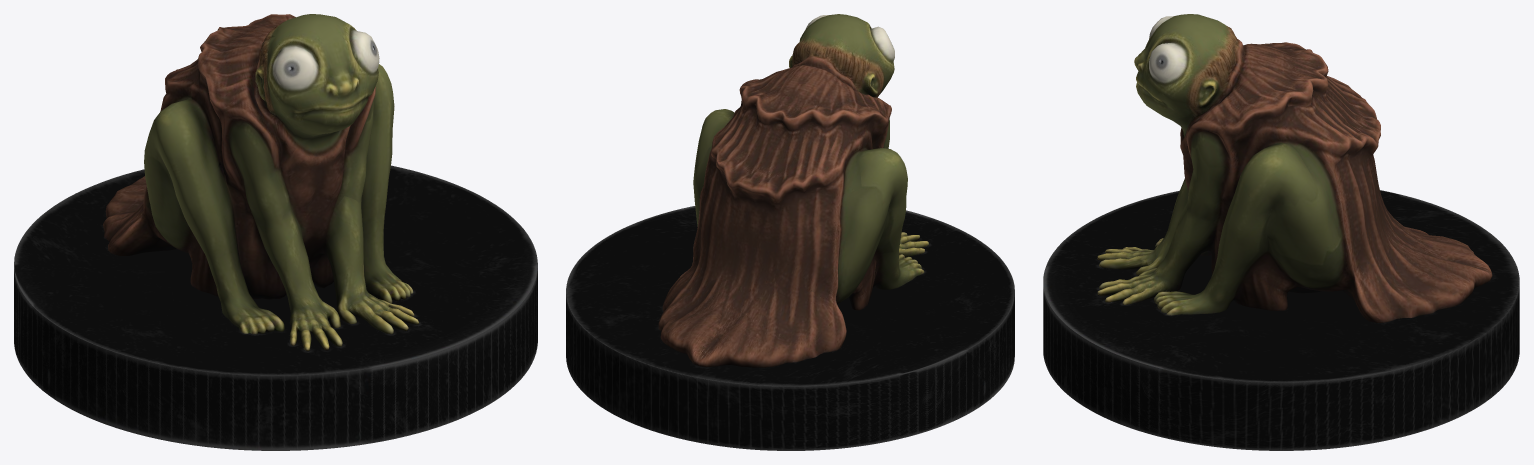
Rendered from MZ4250 - Lornling.glb.
3 views of the same model, side by side, from view 1: azimuth 30°, elevation 25°; view 2: azimuth 150°, elevation 25°; view 3: azimuth 270°, elevation 25° (orthographic). The views are drawn at different scales.
Visible parts, largest first — view 1: base_low.001, body_low.001; view 2: base_low.001, body_low.001; view 3: base_low.001, body_low.001.
Boxes of the visible parts, left/top/right/bottom form: base_low.001: left=14, top=165, right=537, bottom=450; body_low.001: left=103, top=14, right=419, bottom=351; base_low.001: left=566, top=206, right=1014, bottom=450; body_low.001: left=658, top=14, right=929, bottom=367; base_low.001: left=1043, top=190, right=1519, bottom=450; body_low.001: left=1097, top=14, right=1492, bottom=322.
Size of the model in its own units: 5.62 by 4.25 by 5.61.
Materials: 1 (1 with a texture image).
